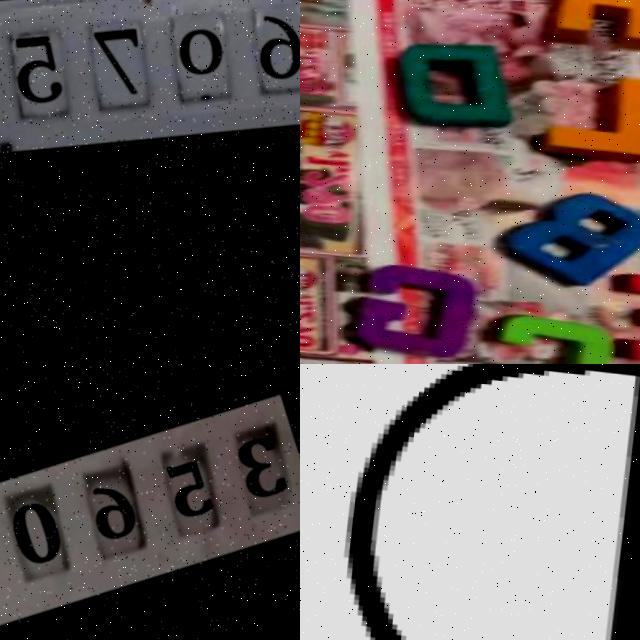0: (0, 469, 92, 586), (168, 0, 246, 95)
3: (221, 405, 300, 515)
5: (151, 429, 241, 535), (5, 13, 85, 117)
6: (73, 450, 165, 557), (246, 0, 300, 89)
7: (84, 7, 162, 106)
B: (499, 178, 640, 286)
C: (489, 309, 622, 364)
D: (394, 31, 514, 131)
G: (355, 258, 480, 352)
L: (543, 64, 640, 157)
R: (313, 364, 640, 640), (545, 0, 640, 42)
